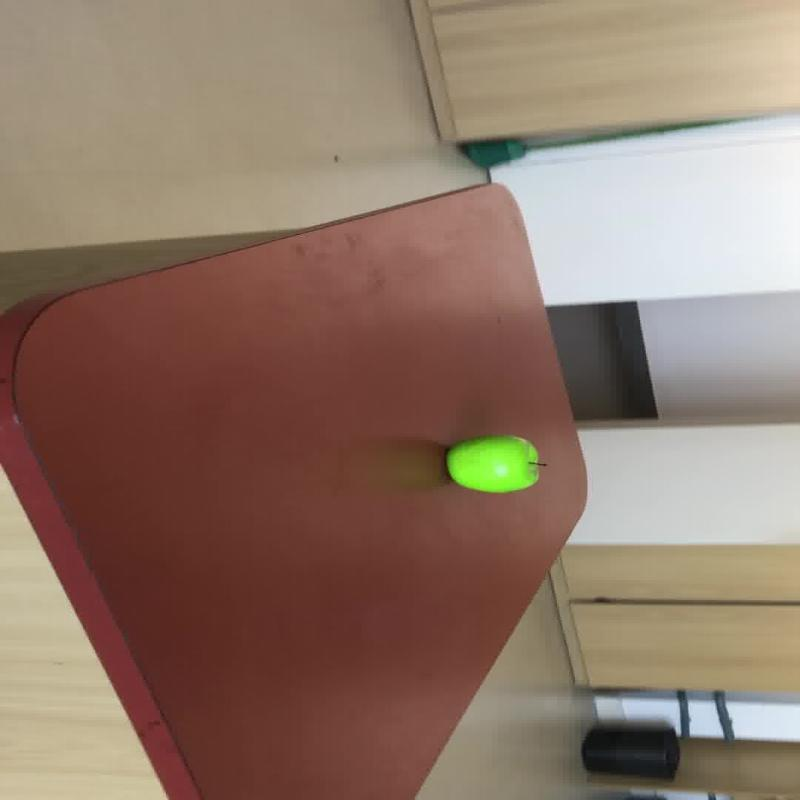apple: (444, 434, 543, 493)
